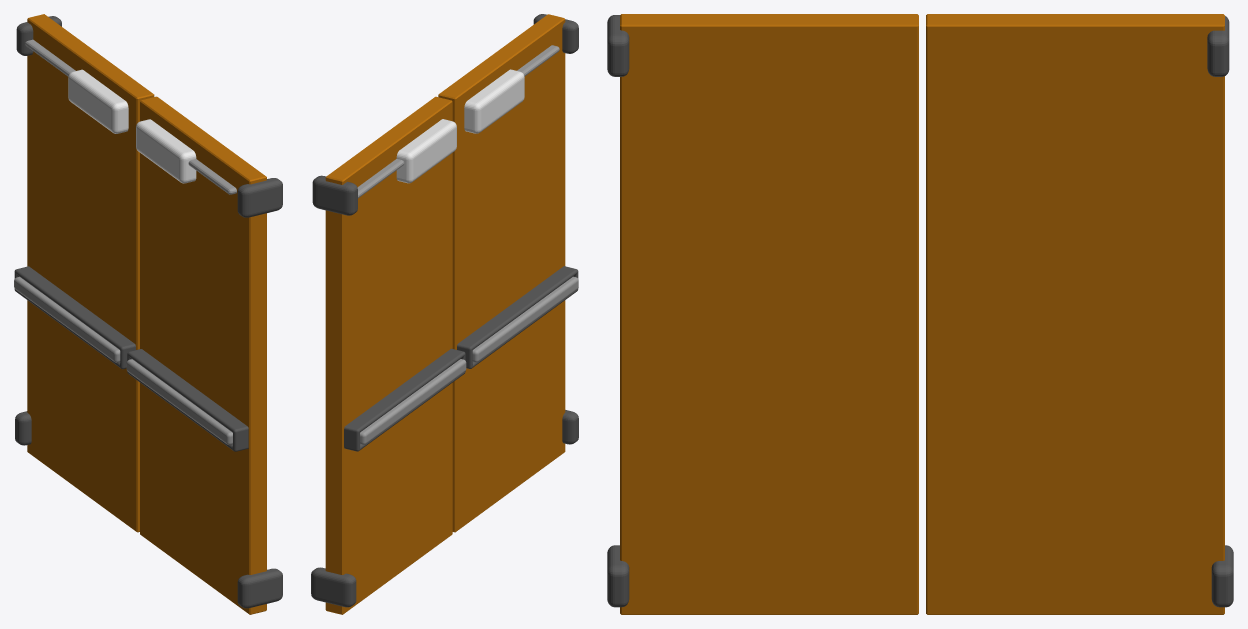
The model's file is Doors.fbx.
3 renders of one model, left to right at view 1: azimuth 30°, elevation 25°; view 2: azimuth 150°, elevation 25°; view 3: azimuth 270°, elevation 25°, orthographic. The views are drawn at different scales.
Visible parts, largest first — view 1: Cube.021, Cube.010, Cube.018, Cube.013, Cube.011, Cube.017, Cube.015, Cube.016, Cube.024, Cube.025, Cube.022, Cube.019 (+2 smaller); view 2: Cube.010, Cube.021, Cube.013, Cube.018, Cube.017, Cube.011, Cube.016, Cube.015, Cube.023, Cube.022, Cube.025, Cube.012 (+2 smaller); view 3: Cube.021, Cube.010, Cube.024, Cube.025, Cube.023, Cube.022.
Part boxes in pixels (x1,y1,x2,y2): Cube.021: (140, 96, 266, 614); Cube.010: (27, 14, 154, 532); Cube.018: (127, 349, 248, 451); Cube.013: (14, 266, 135, 369); Cube.011: (68, 69, 128, 133); Cube.017: (136, 119, 196, 183); Cube.015: (14, 276, 120, 362); Cube.016: (126, 359, 232, 444); Cube.024: (237, 568, 282, 608); Cube.025: (237, 178, 282, 217); Cube.022: (16, 16, 61, 55); Cube.019: (188, 159, 236, 194); Cube.010: (325, 96, 452, 614); Cube.021: (438, 14, 565, 532); Cube.013: (344, 348, 465, 451); Cube.018: (457, 266, 578, 368); Cube.017: (464, 69, 524, 133); Cube.011: (396, 119, 456, 183); Cube.016: (472, 276, 578, 362); Cube.015: (360, 359, 466, 444); Cube.023: (311, 567, 356, 607); Cube.022: (312, 175, 357, 215); Cube.025: (533, 14, 578, 53); Cube.012: (357, 159, 404, 198); Cube.021: (620, 14, 918, 614); Cube.010: (926, 14, 1224, 614); Cube.024: (607, 545, 629, 607); Cube.025: (607, 15, 629, 76); Cube.023: (1211, 545, 1233, 607); Cube.022: (1207, 16, 1229, 76).
Bounding box in the file's own units: 99.51 × 845 × 812.
